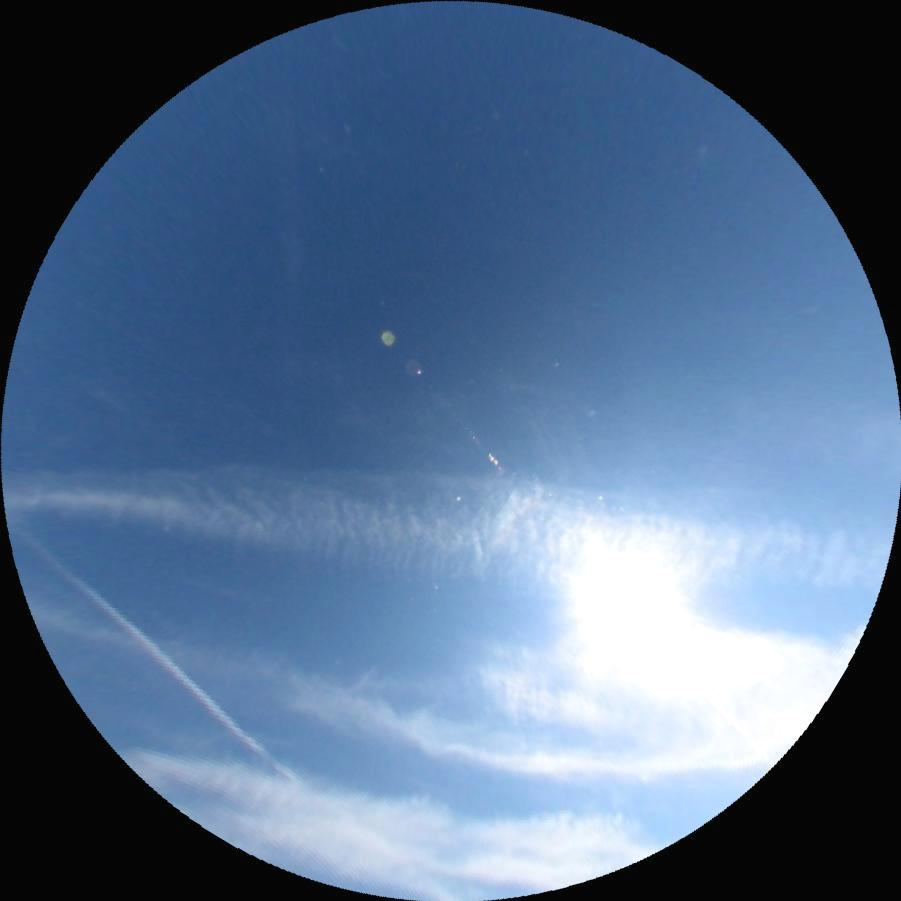contrail old: (9, 521, 324, 807)
parasite: (661, 640, 775, 766)
sun: (568, 549, 694, 665)
